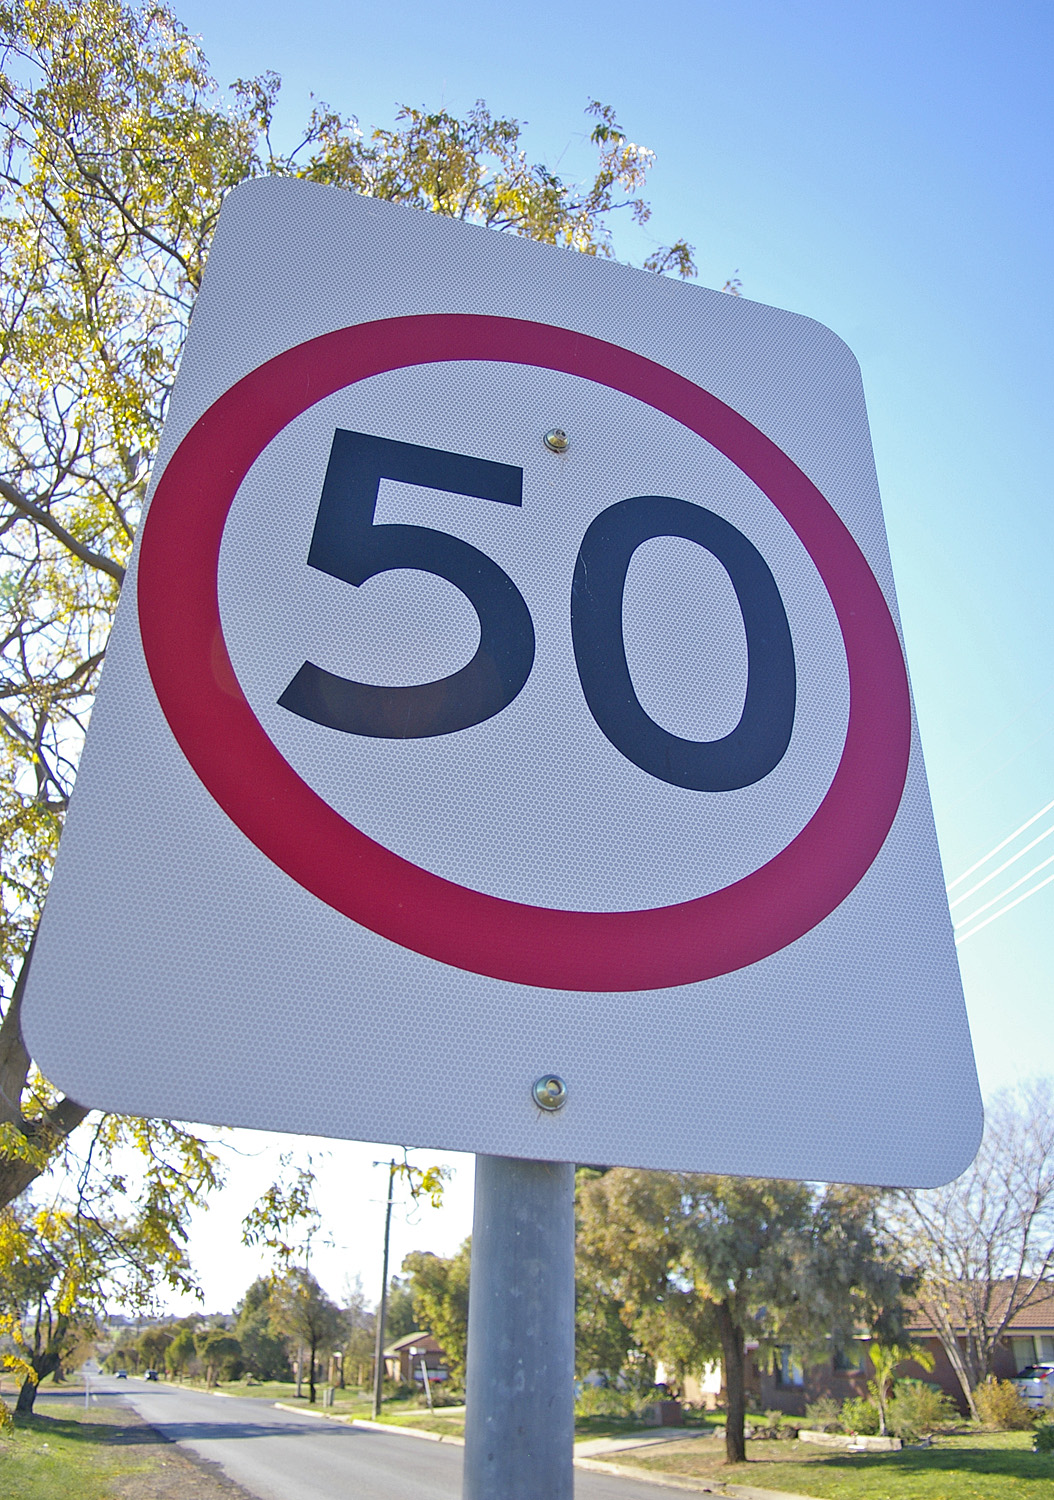Speed_limit_50km: (139, 313, 927, 1007)
